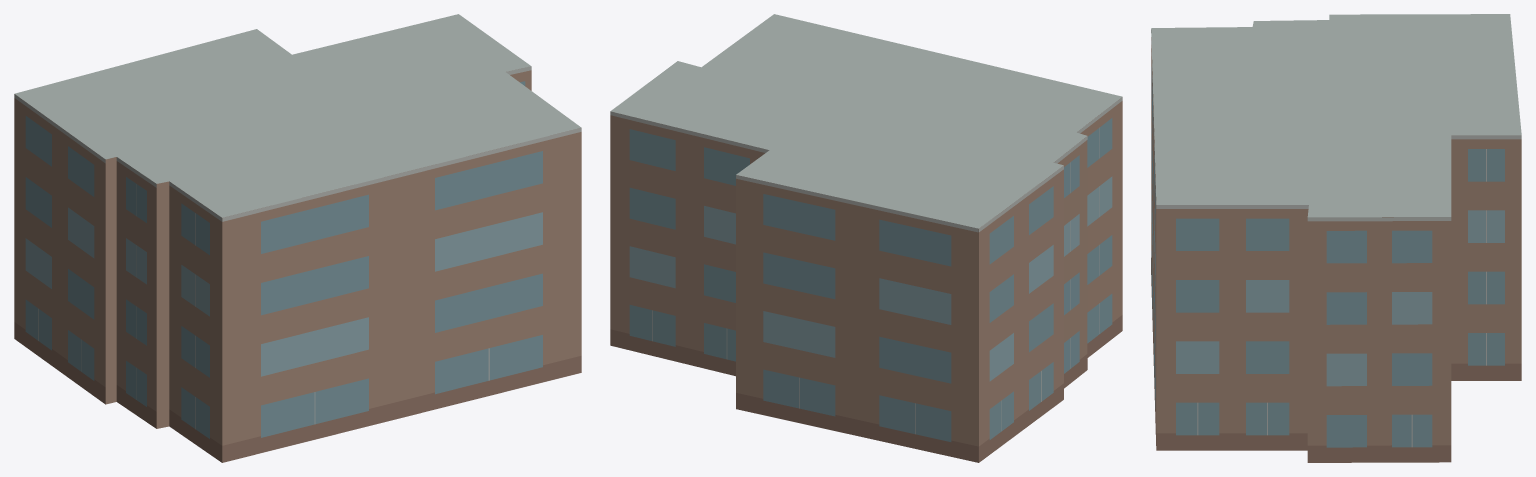
The model's file is survey-upis-32838415.glb.
3 renders of one model, left to right at view 1: azimuth 30°, elevation 25°; view 2: azimuth 150°, elevation 25°; view 3: azimuth 270°, elevation 25°, orthographic. The views are drawn at different scales.
Parts seen in each view (by area): view 1: survey-upis-32838415.tmp; view 2: survey-upis-32838415.tmp; view 3: survey-upis-32838415.tmp.
Part boxes in pixels (x1,y1,x2,y2): survey-upis-32838415.tmp: (14, 14, 581, 462); survey-upis-32838415.tmp: (610, 14, 1122, 462); survey-upis-32838415.tmp: (1151, 14, 1521, 462).
Size of the model in its own units: 26.22 by 14.75 by 20.19.
